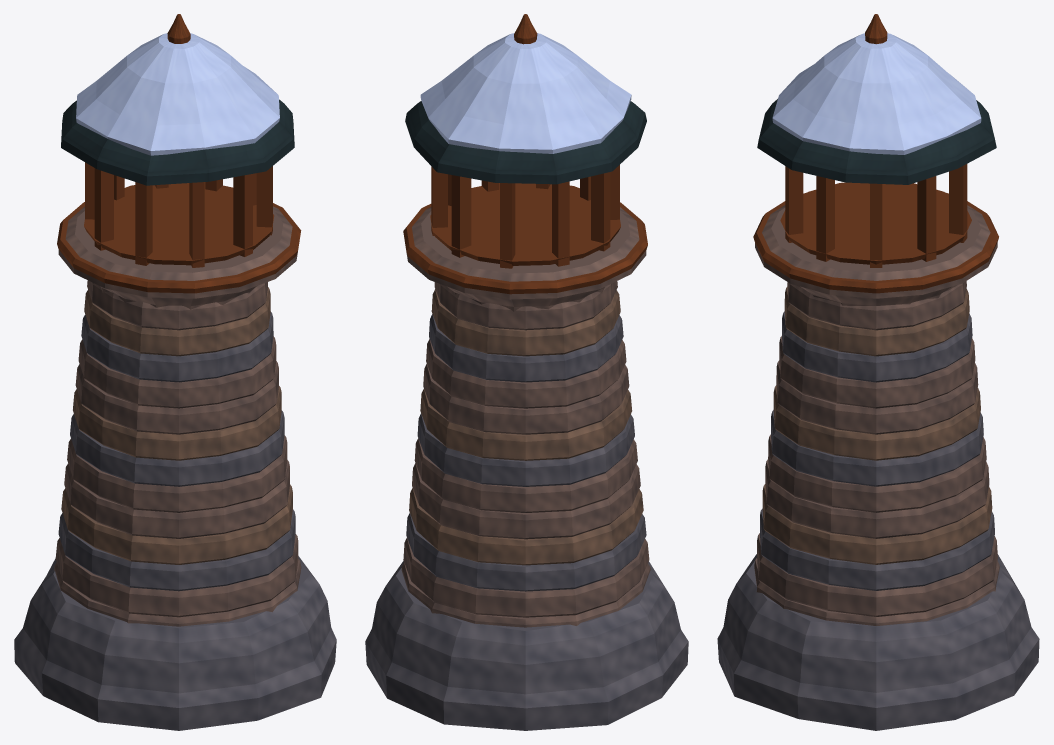
Rendered from homeward-lighthouse.glb.
3 renders of one model, left to right at view 1: azimuth 30°, elevation 25°; view 2: azimuth 150°, elevation 25°; view 3: azimuth 270°, elevation 25°, orthographic.
Parts seen in each view (by area): view 1: Cool limestone, Winter limestone, Worn copper trim, Wind packed snow, Rose limestone, Weathered slate copper; view 2: Cool limestone, Winter limestone, Worn copper trim, Wind packed snow, Rose limestone, Weathered slate copper; view 3: Cool limestone, Winter limestone, Worn copper trim, Wind packed snow, Rose limestone, Weathered slate copper.
Boxes of the visible parts, box(x1,y1,x2,y2) form: Cool limestone: box(14, 311, 336, 730); Winter limestone: box(54, 206, 301, 626); Worn copper trim: box(57, 14, 301, 293); Wind packed snow: box(76, 33, 279, 155); Rose limestone: box(61, 287, 292, 564); Weathered slate copper: box(61, 99, 294, 185); Cool limestone: box(365, 314, 688, 730); Winter limestone: box(401, 207, 650, 627); Worn copper trim: box(403, 14, 647, 294); Wind packed snow: box(420, 33, 631, 153); Rose limestone: box(409, 289, 643, 565); Weathered slate copper: box(405, 101, 646, 184); Cool limestone: box(717, 311, 1039, 730); Winter limestone: box(754, 205, 999, 625); Worn copper trim: box(753, 14, 998, 293); Wind packed snow: box(772, 33, 981, 154); Rose limestone: box(762, 286, 992, 564); Weathered slate copper: box(757, 99, 996, 184).
Size of the model in its own units: 2.76 by 6.12 by 2.76.
Materials: 6 (6 with a texture image).
